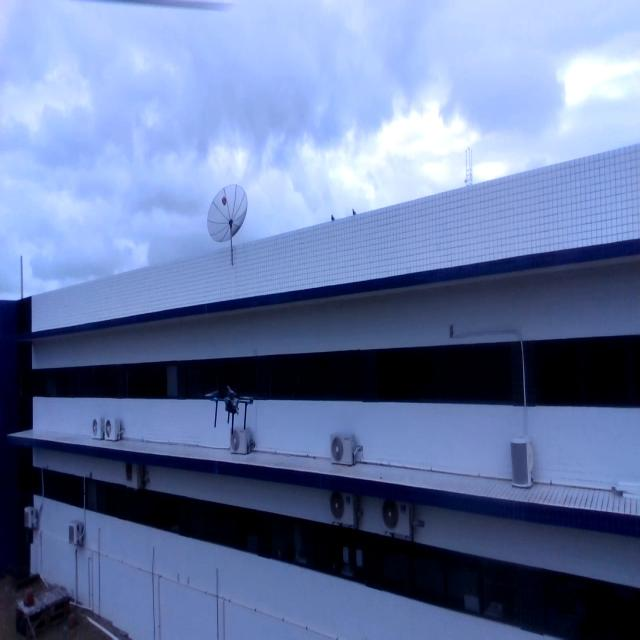-uav-: (204, 378, 266, 450)
